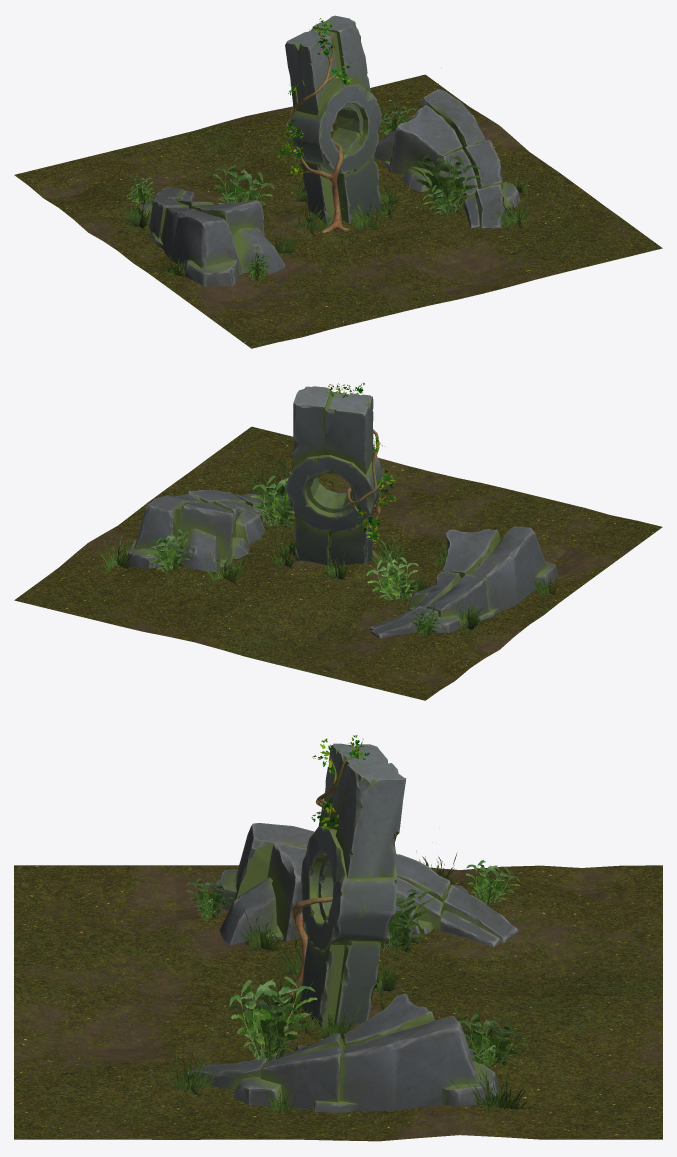
Rendered from ancient_ruins.glb.
3 views of the same model, one above another, from view 1: azimuth 30°, elevation 25°; view 2: azimuth 150°, elevation 25°; view 3: azimuth 270°, elevation 25° (orthographic). The views are drawn at different scales.
Parts seen in each view (by area): view 1: Ground, Stone_Sculpture, Stones_1, Stones_2, TreeLOWPOLY, Plant.002, Plant.004, Plane.010, Plane.008, Plane.002, Plant.001, Plant.003; view 2: Ground, Stone_Sculpture, Stones_2, Stones_1, TreeLOWPOLY, Plant.002, Plant.004, Plant.001, Plane.013, Plane.014, Plane.002, Plant.003; view 3: Ground, Stone_Sculpture, Stones_1, Stones_2, Plant.002, TreeLOWPOLY, Plant.001, Plant.004, Plant.003, Plane.013, Plant, Plane.010 (+2 smaller).
Part boxes in pixels (x1,y1,x2,y2): Ground: [14, 74, 662, 348]; Stone_Sculpture: [285, 15, 381, 225]; Stones_1: [374, 89, 520, 228]; Stones_2: [138, 187, 285, 286]; TreeLOWPOLY: [277, 18, 352, 232]; Plant.002: [409, 154, 480, 216]; Plant.004: [212, 165, 274, 204]; Plane.010: [489, 187, 530, 228]; Plane.008: [340, 188, 383, 233]; Plane.002: [289, 197, 339, 238]; Plant.001: [379, 96, 416, 134]; Plant.003: [126, 174, 154, 204]; Ground: [14, 426, 662, 700]; Stone_Sculpture: [285, 386, 383, 566]; Stones_2: [369, 526, 557, 638]; Stones_1: [126, 490, 294, 572]; TreeLOWPOLY: [326, 382, 397, 560]; Plant.002: [250, 460, 294, 528]; Plant.004: [366, 550, 418, 603]; Plant.001: [146, 529, 191, 573]; Plane.013: [95, 532, 147, 574]; Plane.014: [201, 535, 253, 586]; Plane.002: [366, 525, 409, 564]; Plant.003: [411, 606, 443, 638]; Ground: [14, 865, 662, 1141]; Stone_Sculpture: [300, 743, 406, 1029]; Stones_1: [187, 993, 498, 1112]; Stones_2: [211, 823, 518, 947]; Plant.002: [228, 976, 317, 1061]; TreeLOWPOLY: [288, 735, 372, 1000]; Plant.001: [459, 1013, 528, 1068]; Plant.004: [381, 889, 436, 956]; Plant.003: [465, 860, 520, 905]; Plane.013: [449, 1058, 537, 1113]; Plant: [186, 878, 234, 921]; Plane.010: [165, 1048, 227, 1097].
Size of the model in its own units: 26.43 by 13.57 by 26.43.
Materials: 7 (7 with a texture image).
